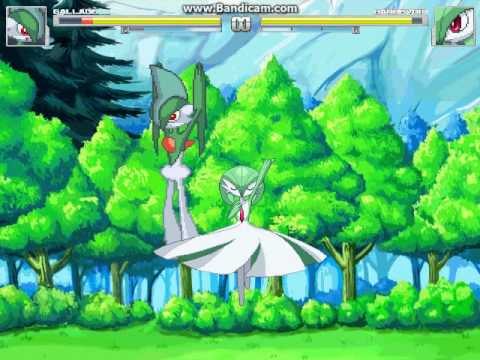gardevoir: (179, 162, 318, 307)
